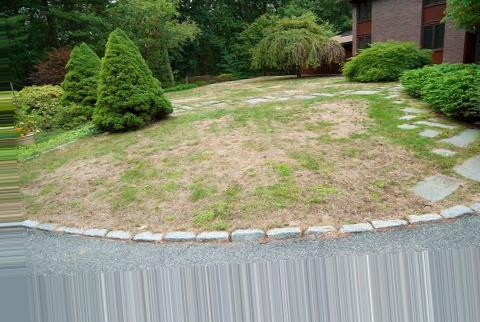patch: (157, 124, 368, 217)
